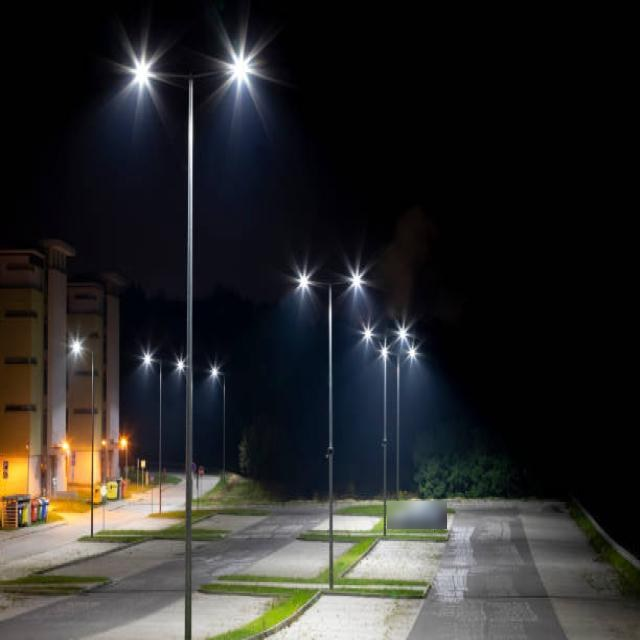acesa: (195, 15, 287, 113), (103, 21, 180, 116), (334, 252, 374, 298), (387, 315, 417, 353), (290, 263, 320, 298), (134, 342, 161, 372), (358, 322, 381, 357), (203, 355, 226, 384), (68, 332, 86, 361), (172, 355, 187, 376)
